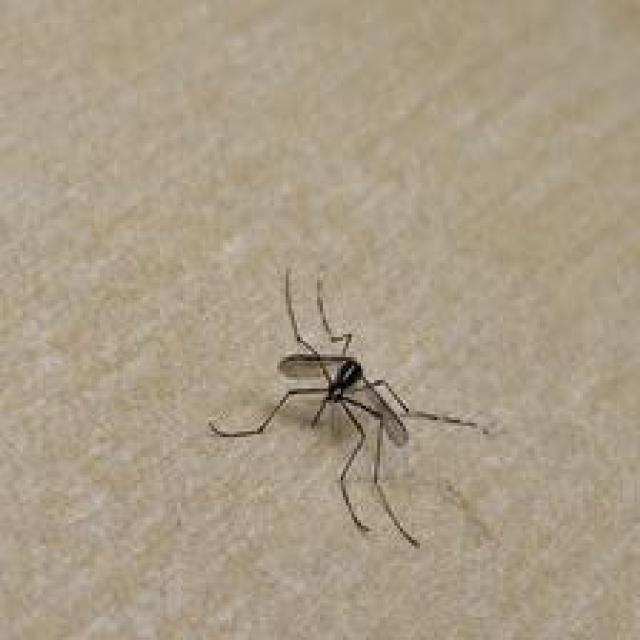Aedes albopictus: (206, 266, 503, 548)
